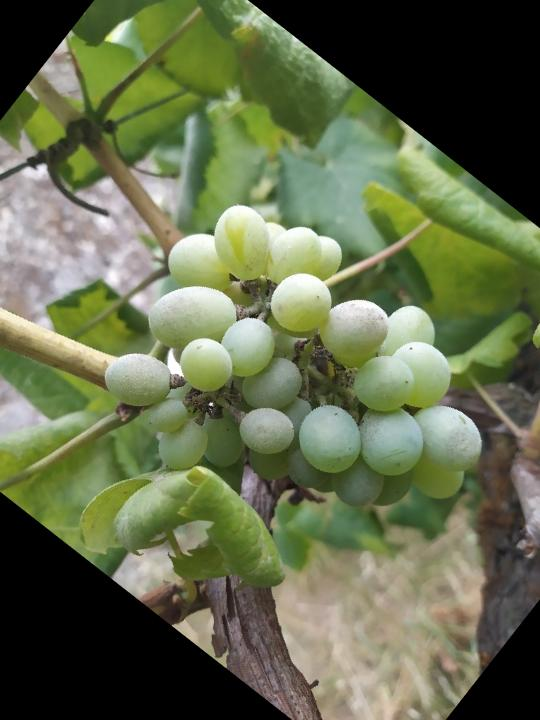grape: (60, 160, 539, 622)
